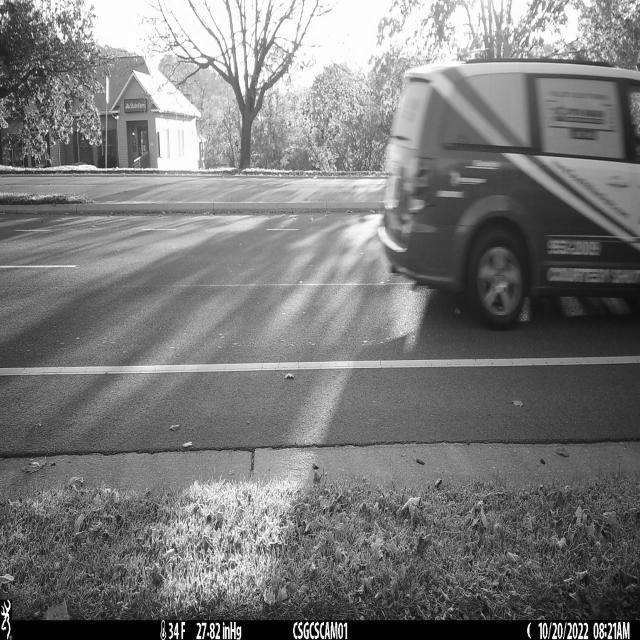Van: (378, 60, 640, 330)
